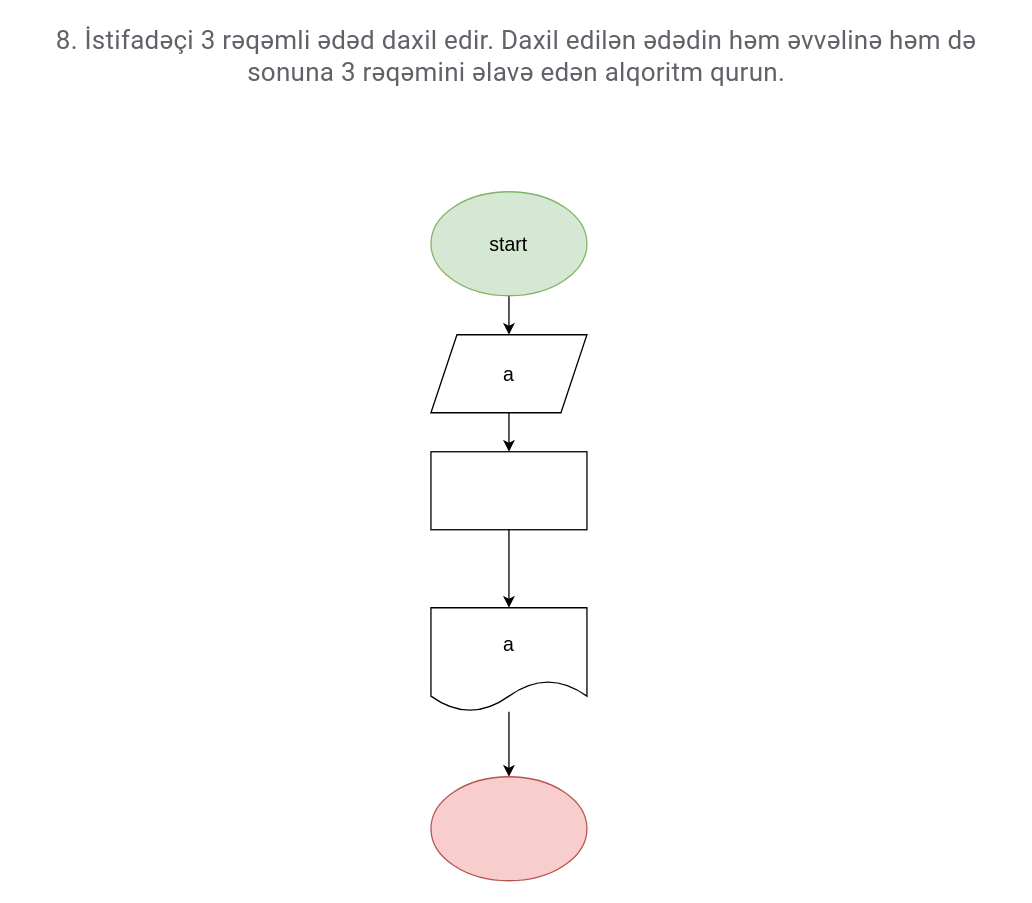
Image size: 1032x903. Some labels were removed from this diagram. The shapes that lost their labels are listed below. From the top down, each one's centre as x and y in pixels, then its label:
At [508,490]: "( a * 10 ) + 30003".
At [508,828]: "end".
